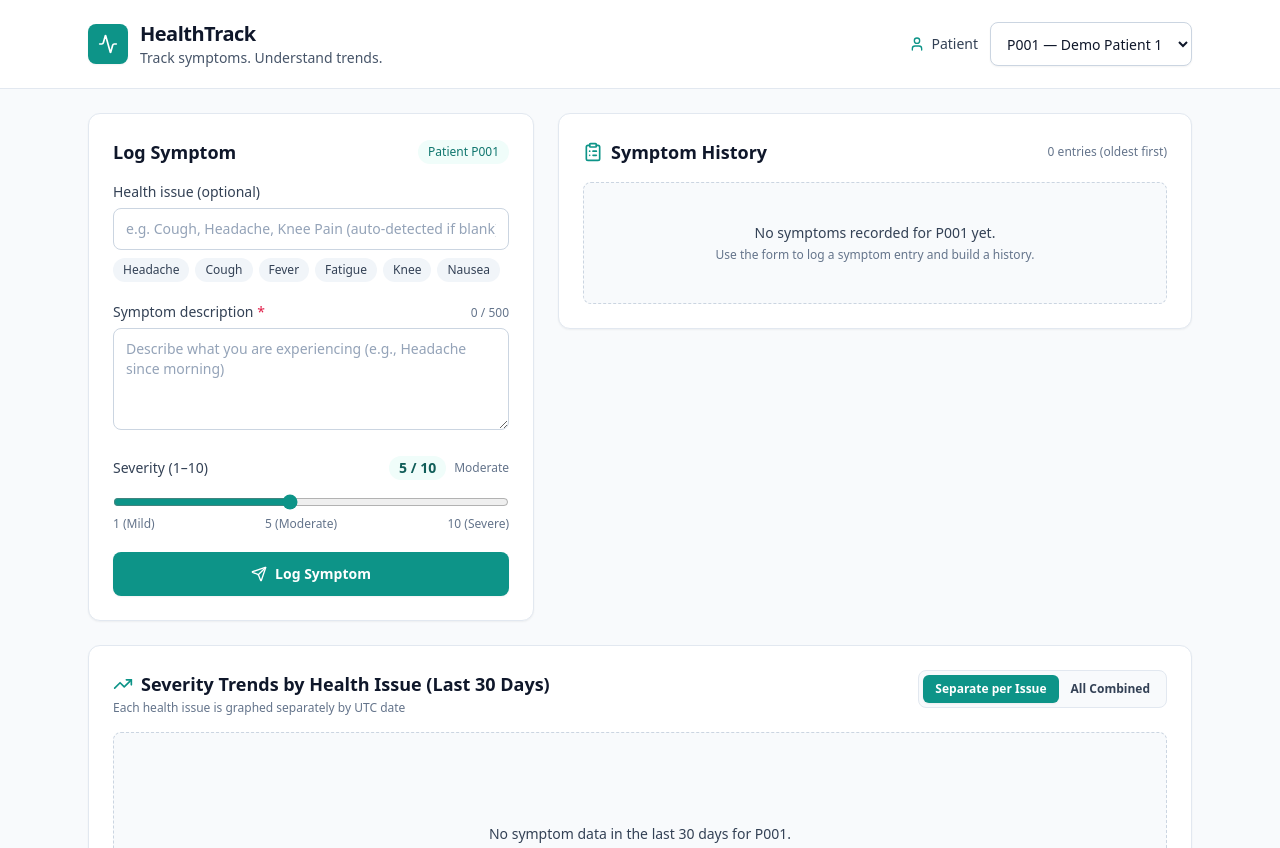
Scenario: HealthTrack App › ignores a late POST response if the user switched patients while POST was pending
Check: the text "No symptoms recorded for P001 yet." is shown, box [755, 223, 995, 242]
Type "P001 transient symptom" into the text box labelled "Symptom description *" at (311, 379), box [113, 328, 509, 430]
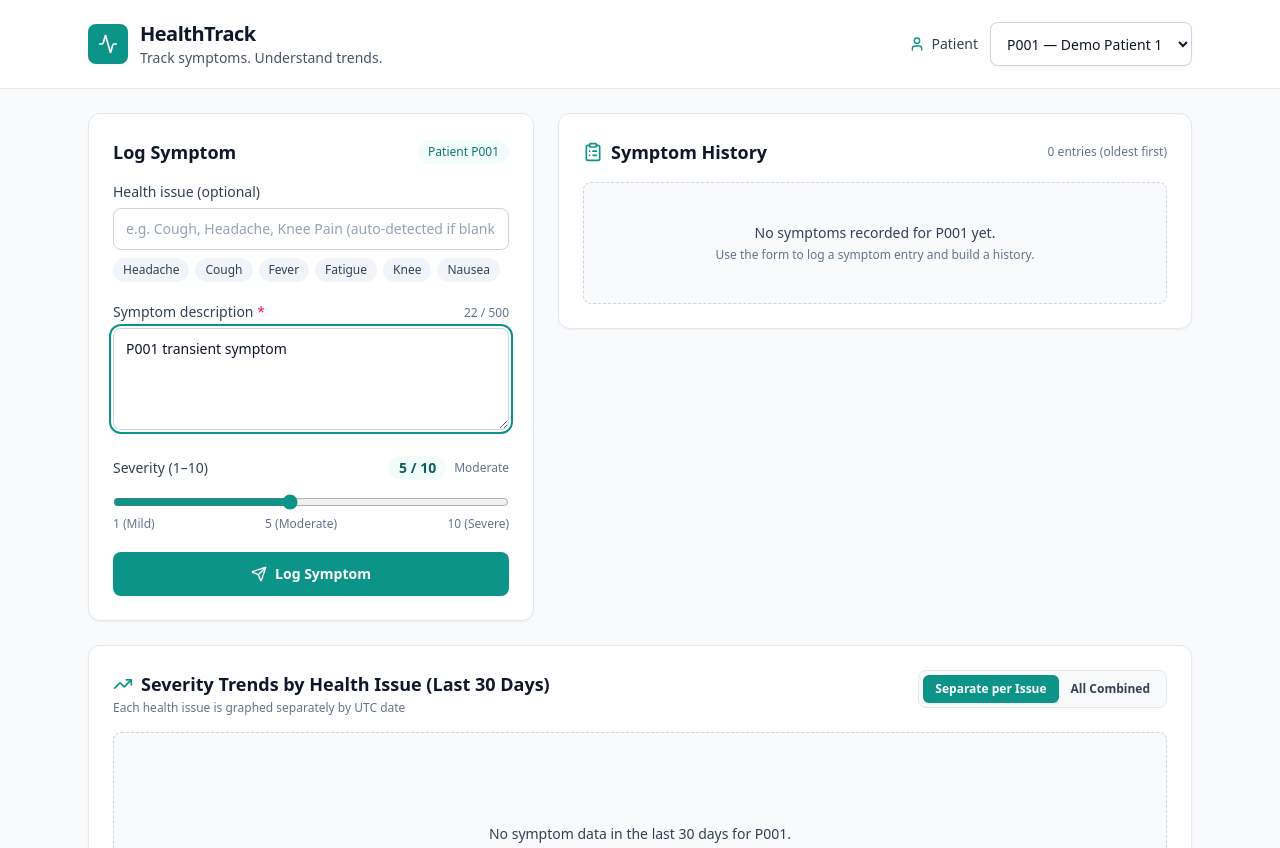
Click the button "Log Symptom" at (311, 574), box [113, 552, 509, 596]
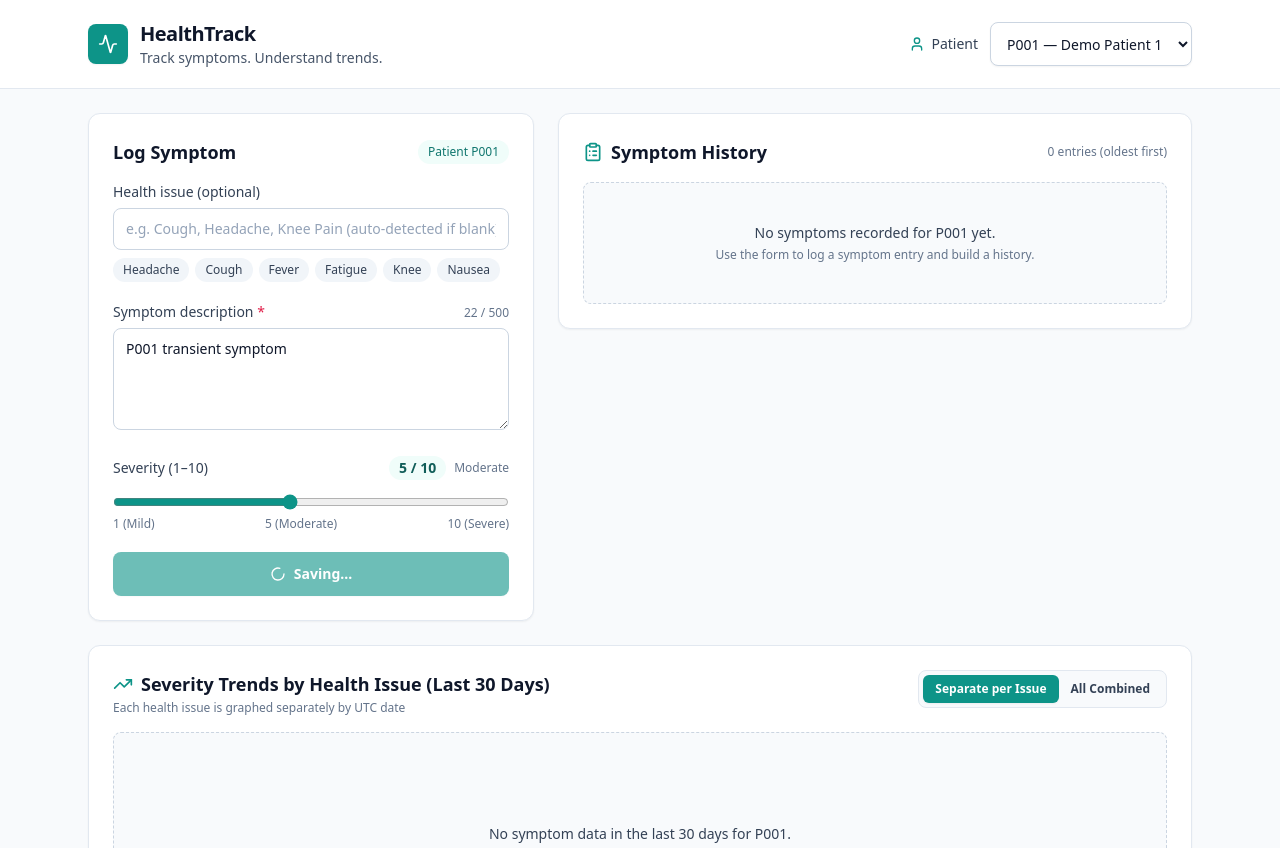
Check: the button "Saving..." is disabled, box [113, 552, 509, 596]
Select "P002 — Demo Patient 2" in the dropdown labelled "Patient" at (1091, 44), box [990, 22, 1192, 66]
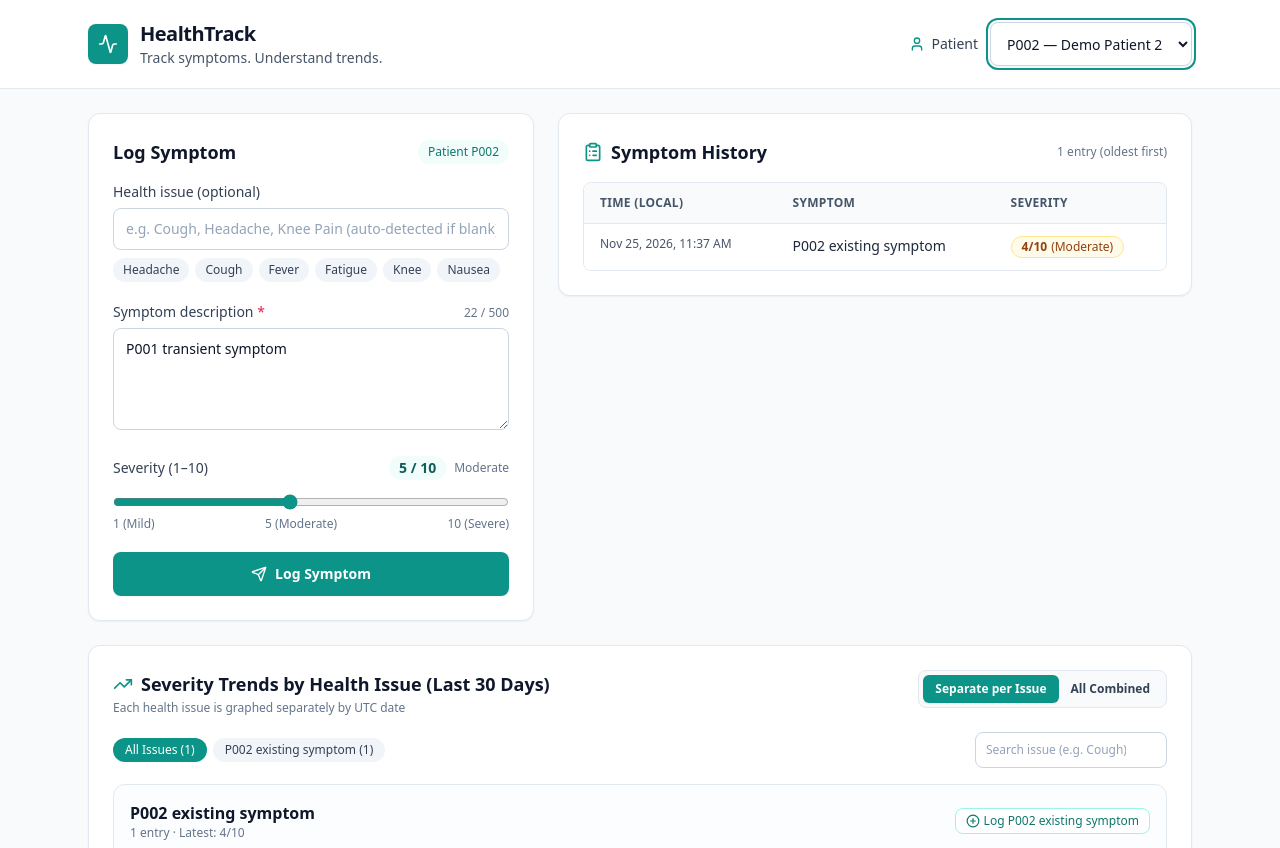
Check: the text "P002 existing symptom" is shown, box [776, 224, 994, 270]
